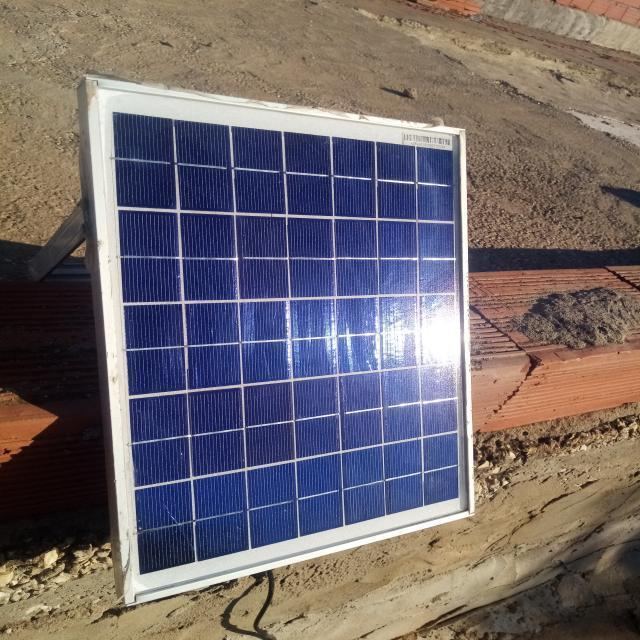Normal Solar Panel: (90, 78, 478, 600)
